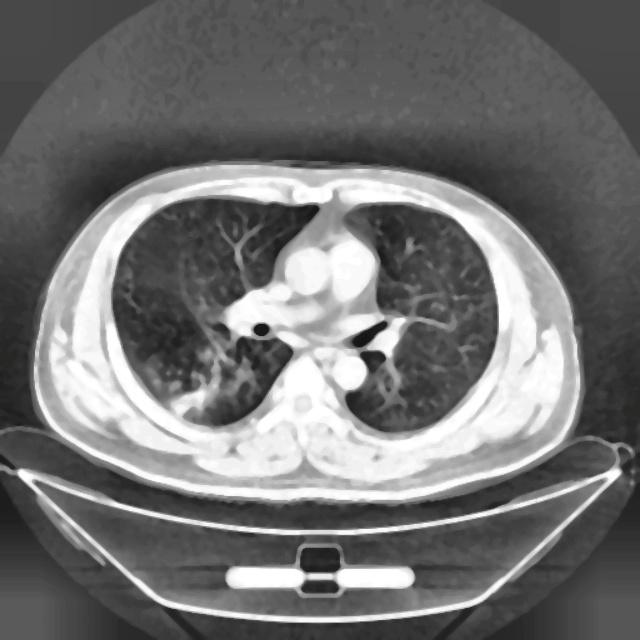covid: (30, 157, 584, 505)
